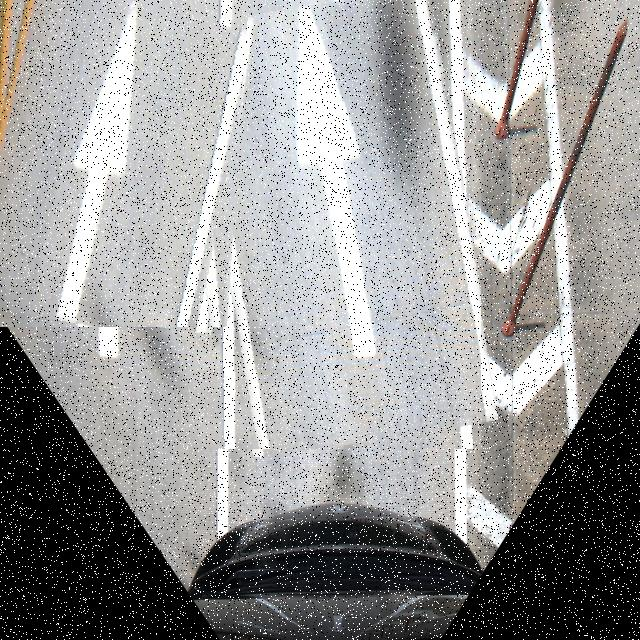forward: (201, 0, 481, 449), (0, 0, 248, 327)
